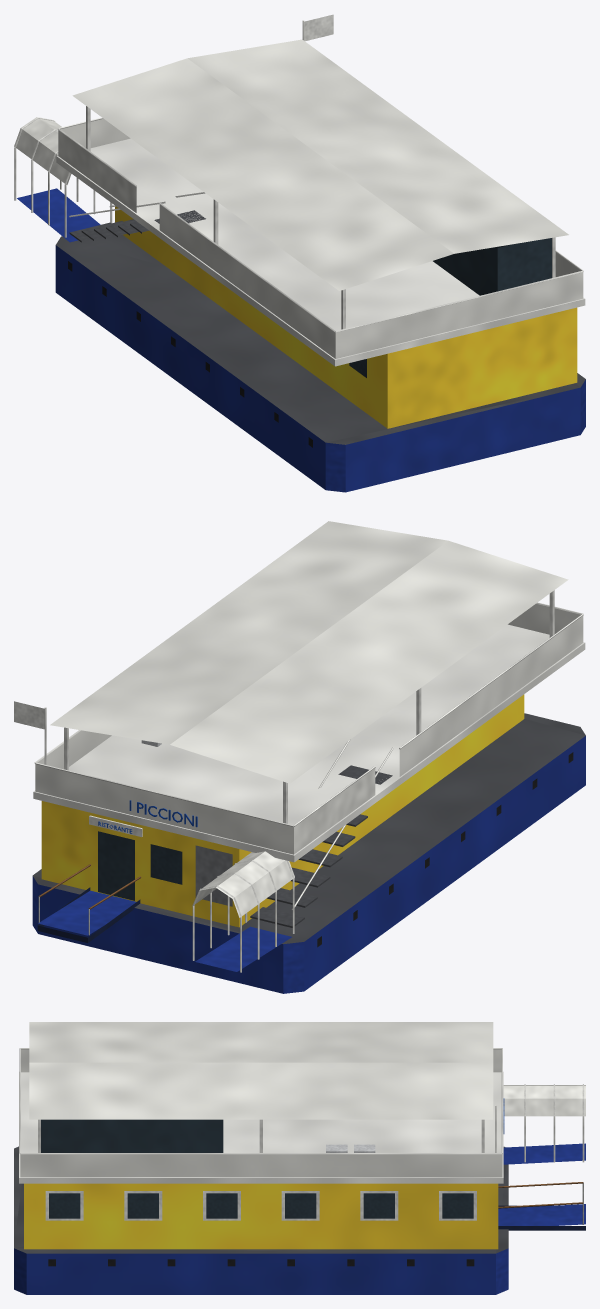
The model's file is SM_MoloItalia_RistorantePiccioni_LOD1.fbx.
The picture shows the model from 3 angles, top to bottom: view 1: azimuth 30°, elevation 25°; view 2: azimuth 150°, elevation 25°; view 3: azimuth 270°, elevation 25°; orthographic projection. The views are drawn at different scales.
Parts seen in each view (by area): view 1: SM_MoloItalia_RistorantePiccioni_LOD1; view 2: SM_MoloItalia_RistorantePiccioni_LOD1; view 3: SM_MoloItalia_RistorantePiccioni_LOD1.
Part boxes in pixels (x1=…): SM_MoloItalia_RistorantePiccioni_LOD1: x1=14, y1=14, x2=585, y2=492; SM_MoloItalia_RistorantePiccioni_LOD1: x1=14, y1=521, x2=585, y2=993; SM_MoloItalia_RistorantePiccioni_LOD1: x1=14, y1=1022, x2=585, y2=1294.
Bounding box in the file's own units: 1101 × 2255 × 800.
1 material, 1 textured.
